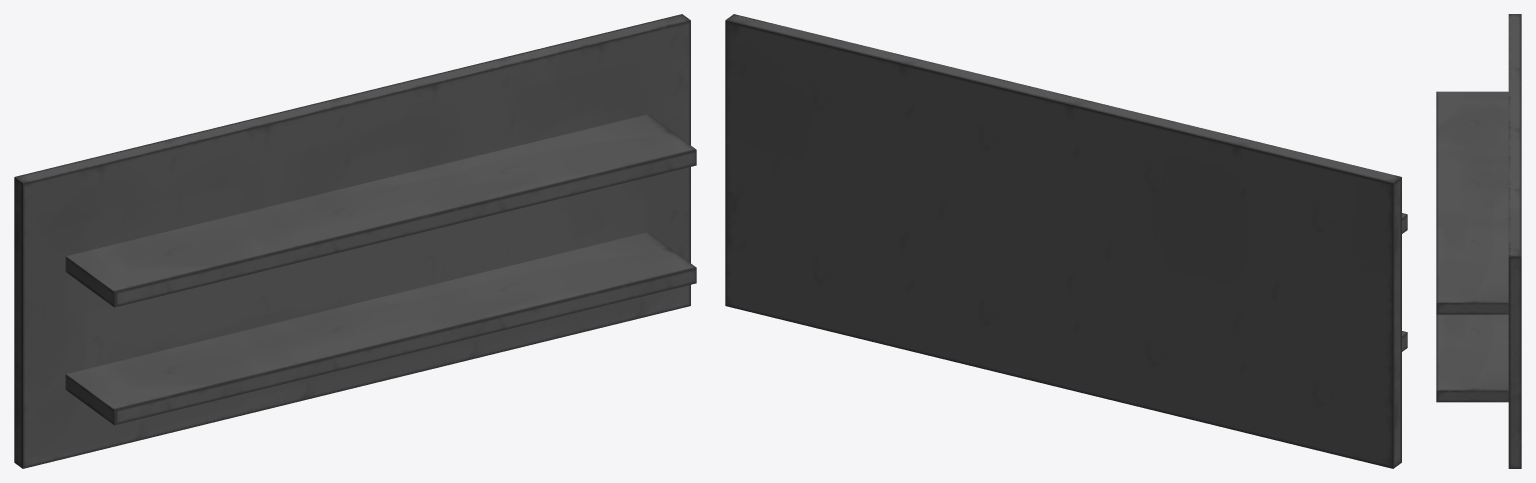
File: Shelves1.fbx
The picture shows the model from 3 angles, left to right: view 1: azimuth 30°, elevation 25°; view 2: azimuth 150°, elevation 25°; view 3: azimuth 270°, elevation 25°; orthographic projection. The views are drawn at different scales.
Parts seen in each view (by area): view 1: Shelves1; view 2: Shelves1; view 3: Shelves1.
Boxes of the visible parts, x1,y1,x2,y2 form: Shelves1: [14, 14, 696, 468]; Shelves1: [725, 14, 1407, 468]; Shelves1: [1436, 14, 1521, 468].
Bounding box in the file's own units: 200 × 81.69 × 29.75.
